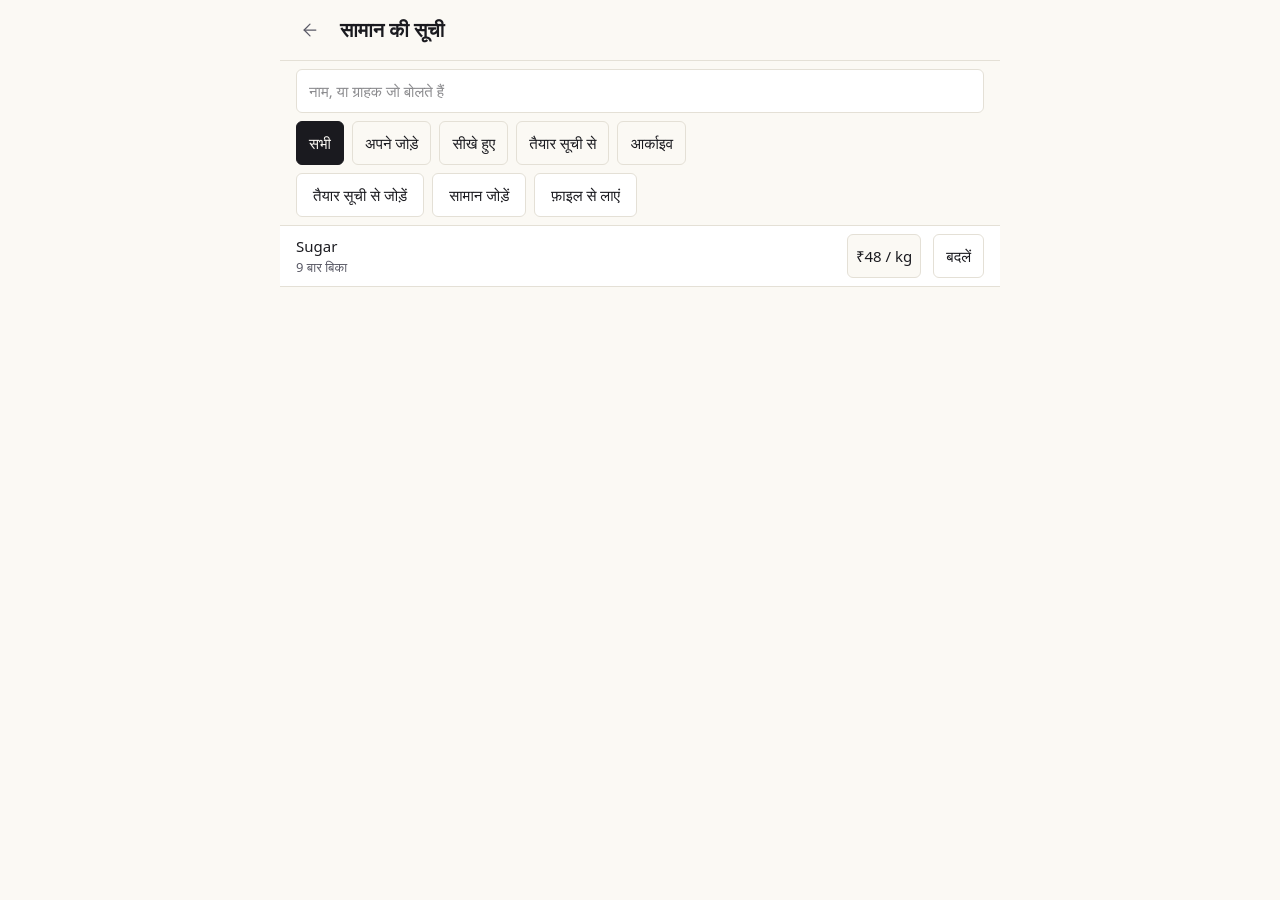
Test: the Catalog › the ready catalog says what it has to say
Expected: the list named "सामान" is shown, [280,226,1000,287]
Click the button "तैयार सूची से जोड़ें". click: (360, 195)
box: [296,173,424,217]
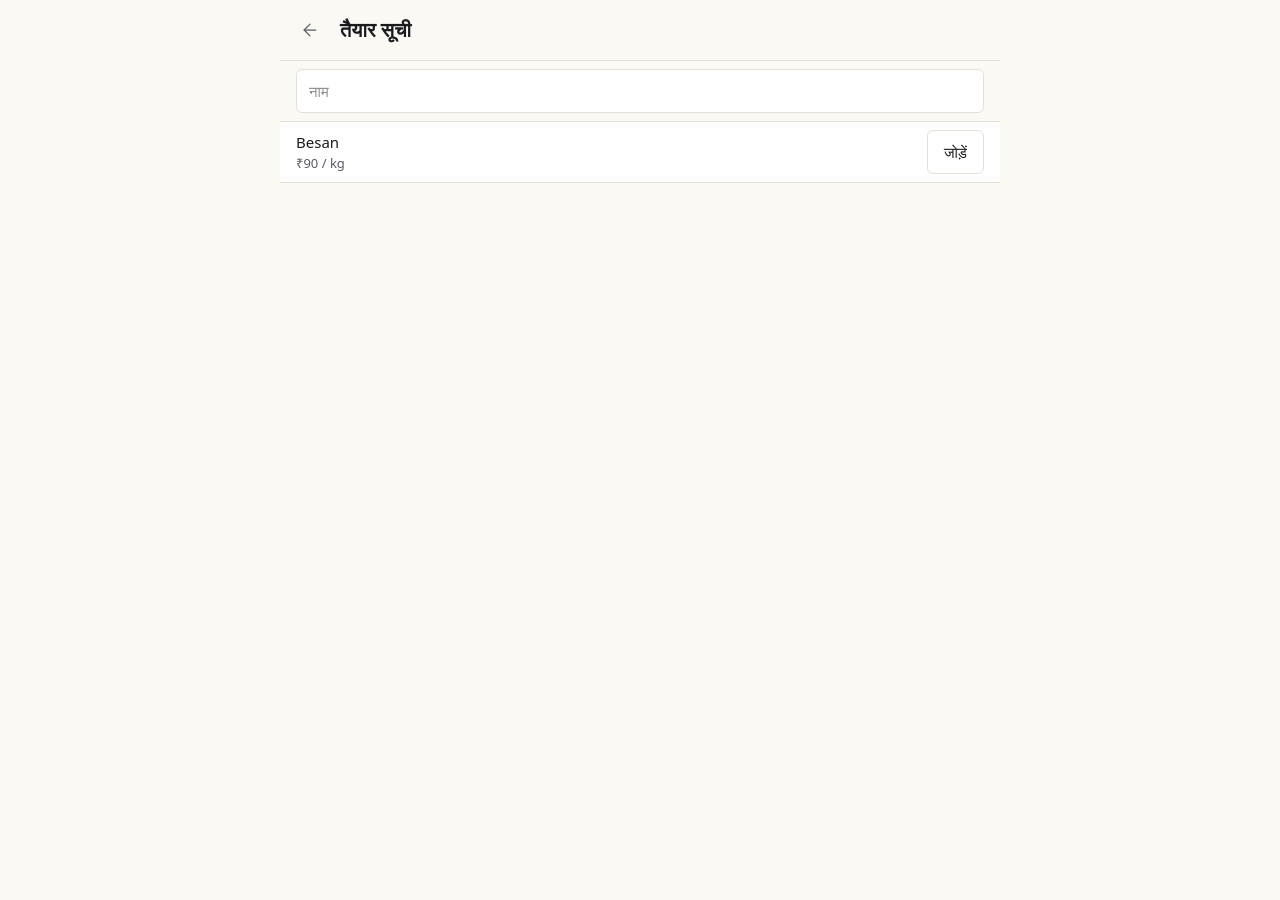
Result: the heading "तैयार सूची" is shown at [340,15,411,45]
Result: the text "₹90 / kg" is shown at [296,154,345,172]
